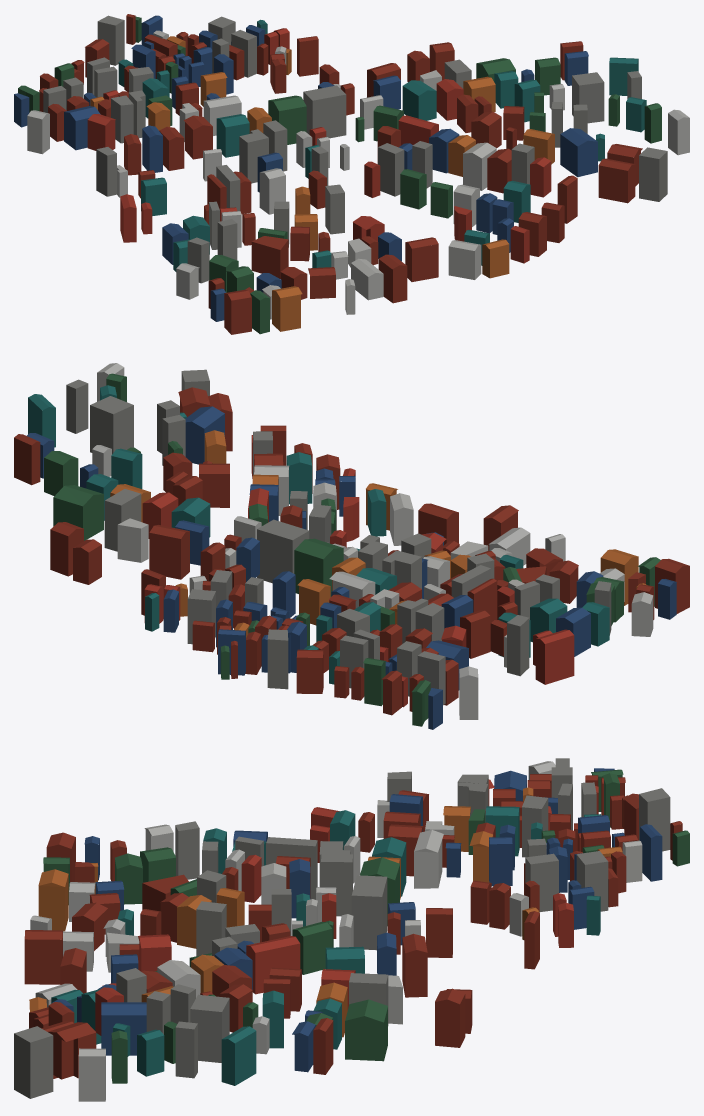
Rendered from near-17-109432-59479.beb4bd1e.glb.
3 views of the same model, one above another, from view 1: azimuth 30°, elevation 25°; view 2: azimuth 150°, elevation 25°; view 3: azimuth 270°, elevation 25° (orthographic). The views are drawn at different scales.
Size of the model in its own units: 304 by 73.55 by 276.
